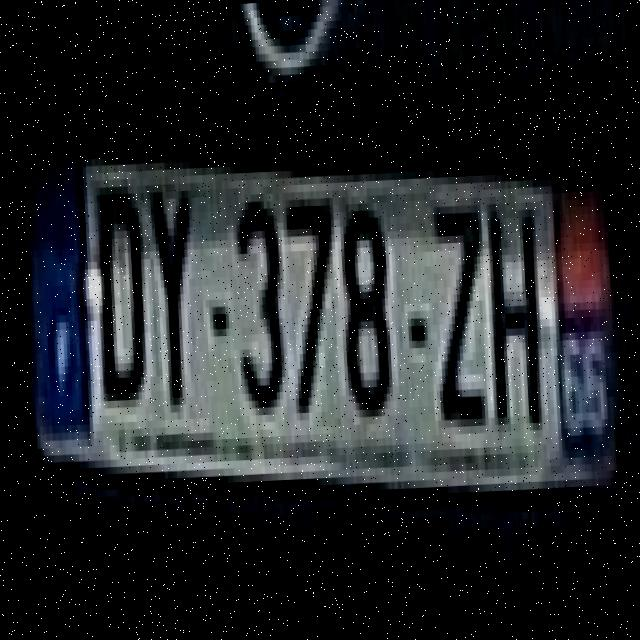Autre: (30, 161, 610, 460)
